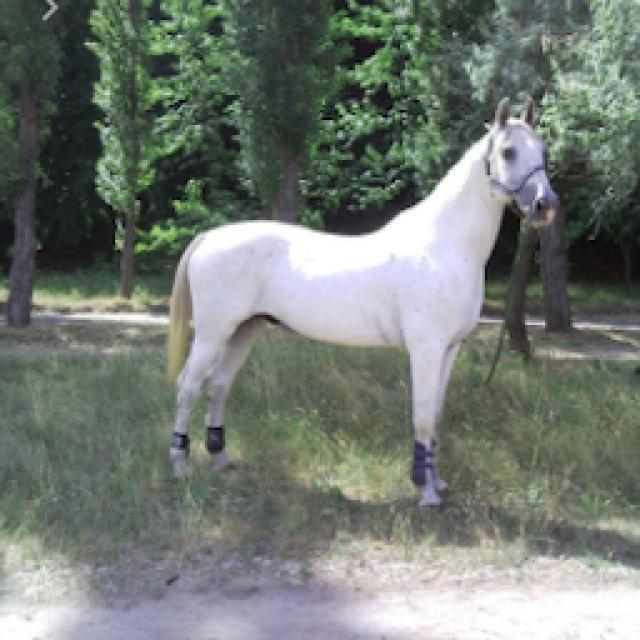Horse: (155, 92, 565, 512)
